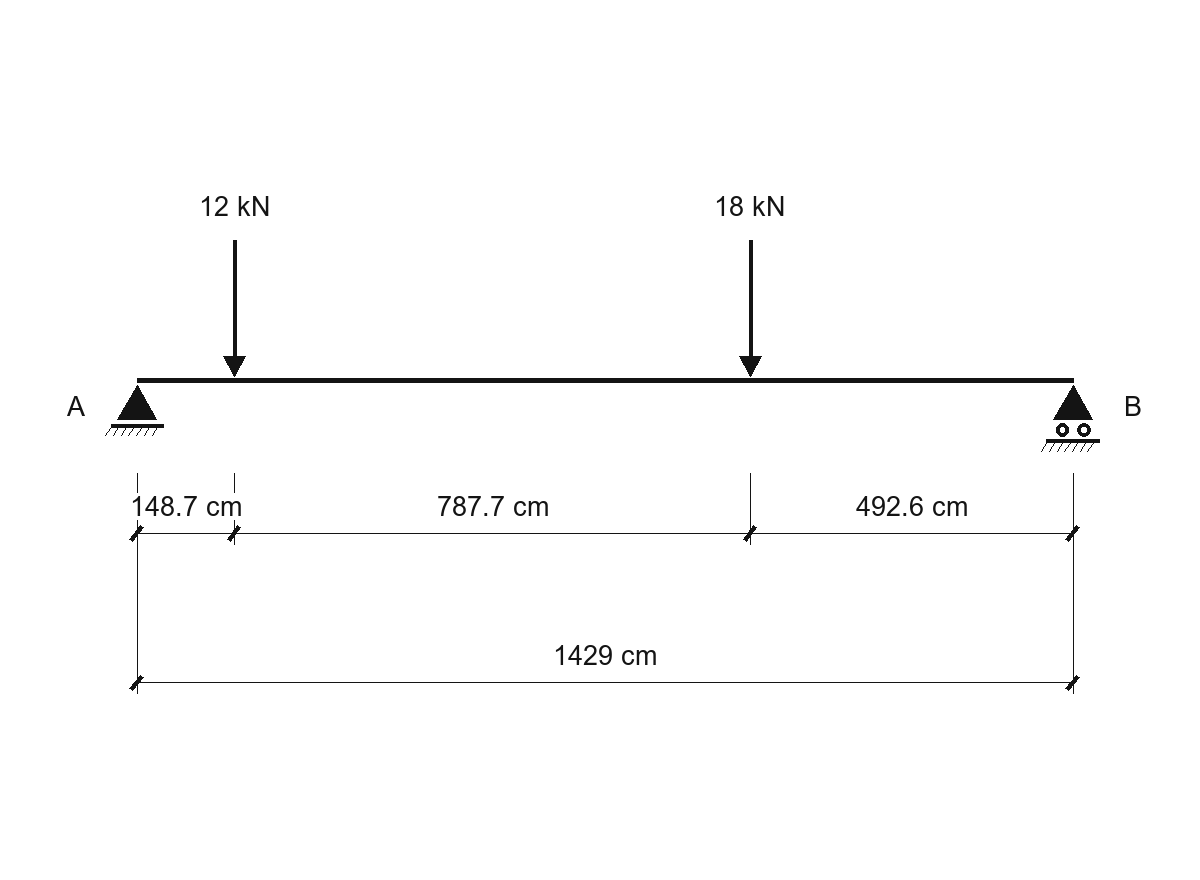pin_support: (105, 385, 164, 436)
point_load: (223, 240, 246, 377), (739, 240, 762, 377)
roller_support: (1041, 385, 1100, 452)
